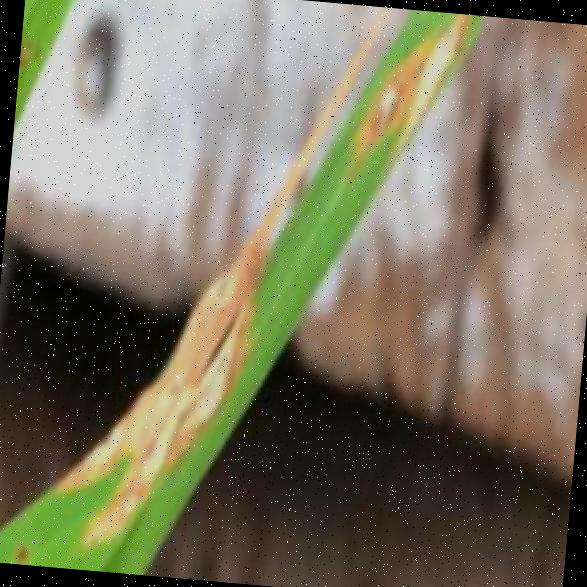Leaf_smut: (386, 10, 496, 120), (363, 70, 415, 134)
